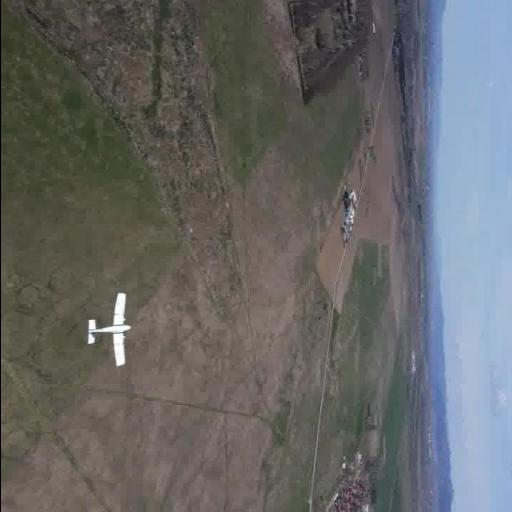uav: (79, 290, 137, 370)
